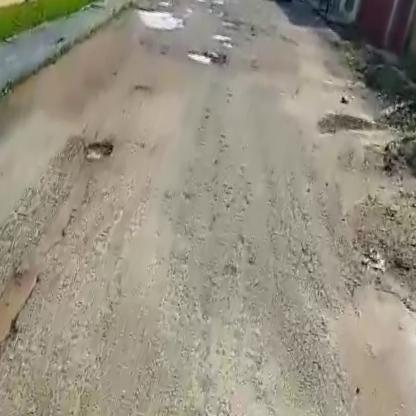pothole: (131, 3, 187, 37), (83, 136, 116, 164), (186, 44, 223, 66)
